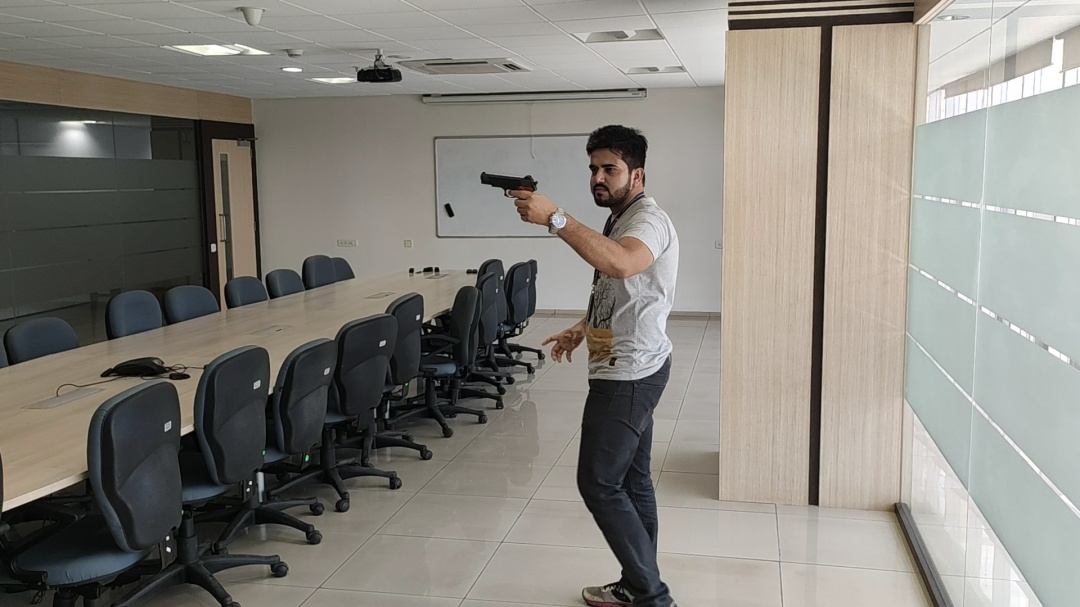gun: (476, 163, 548, 191)
